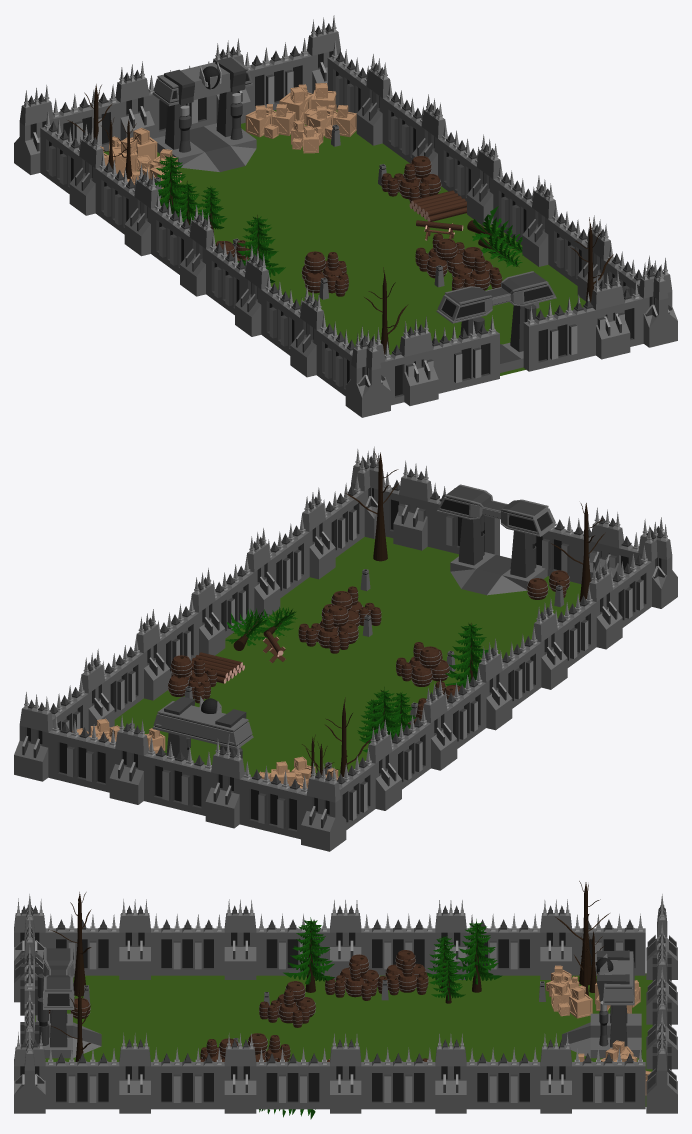
File: Level.fbx
The picture shows the model from 3 angles, top to bottom: view 1: azimuth 30°, elevation 25°; view 2: azimuth 150°, elevation 25°; view 3: azimuth 270°, elevation 25°; orthographic projection. The views are drawn at different scales.
Parts seen in each view (by area): view 1: Ground, Wall.006, Wall.005, Wall.001, Wall.002, gate_exit.001, Wall.004, Wall.003, gate_entrance.001, BarrelGroup_wide.003, BarrelGroup_wide.002, BarrelGroup_wide.006 (+12 smaller); view 2: Ground, Wall.006, Wall.005, Wall.003, Wall.004, gate_entrance.001, Wall.001, Wall.002, gate_exit.001, BarrelGroup_wide.005, BarrelGroup_wide.003, BarrelGroup_wide.002 (+8 smaller); view 3: Wall.005, Ground, Wall.006, gate_exit.001, gate_entrance.001, Wall.003, Wall.004, Wall.002, Pine.001, Wall.001, BarrelGroup_wide.002, Pine.003 (+11 smaller).
Boxes of the visible parts, box(x1,y1,x2,y2) form: Ground: box(104, 110, 585, 375); Wall.006: box(40, 112, 390, 417); Wall.005: box(327, 41, 677, 347); Wall.001: box(523, 258, 677, 371); Wall.002: box(346, 315, 499, 417); gate_exit.001: box(152, 57, 256, 171); Wall.004: box(14, 61, 216, 174); Wall.003: box(149, 15, 340, 138); gate_entrance.001: box(436, 271, 556, 372); BarrelGroup_wide.003: box(381, 156, 441, 203); BarrelGroup_wide.002: box(301, 251, 348, 296); BarrelGroup_wide.006: box(451, 247, 502, 290); Ground: box(114, 536, 581, 776); Wall.006: box(335, 517, 677, 829); Wall.005: box(47, 446, 377, 735); Wall.003: box(14, 692, 211, 815); Wall.004: box(144, 738, 346, 851); gate_entrance.001: box(436, 484, 556, 595); Wall.001: box(351, 449, 499, 555); Wall.002: box(535, 507, 677, 608); gate_exit.001: box(152, 696, 253, 773); BarrelGroup_wide.005: box(298, 604, 358, 653); BarrelGroup_wide.003: box(167, 655, 217, 703); BarrelGroup_wide.002: box(396, 642, 449, 686); Wall.005: box(14, 1032, 645, 1113); Ground: box(35, 973, 652, 1106); Wall.006: box(14, 898, 645, 979); gate_exit.001: box(562, 950, 641, 1058); gate_entrance.001: box(35, 948, 101, 1058); Wall.003: box(646, 967, 677, 1113); Wall.004: box(646, 894, 677, 1024); Wall.002: box(14, 894, 44, 1015); Pine.001: box(283, 917, 334, 992); Wall.001: box(14, 989, 45, 1113); BarrelGroup_wide.002: box(259, 981, 315, 1027); Pine.003: box(454, 919, 502, 992).
Bounding box in the file's own units: 2200 × 879 × 4200.
